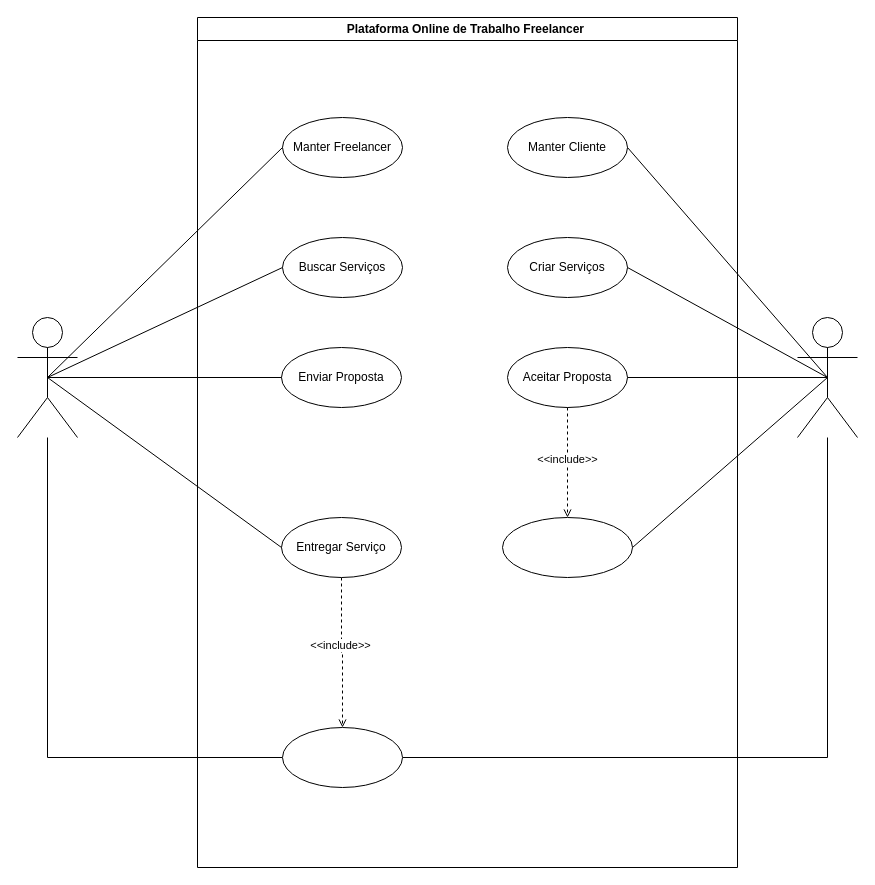
Some shapes in this 875 by 885 pixel diagram are drawn without their labels. Each missing label, with the centre of its shape:
Avaliação: the point at 342,757
Cliente: the point at 827,377
Freelancer: the point at 47,377
Pagamento: the point at 567,547
